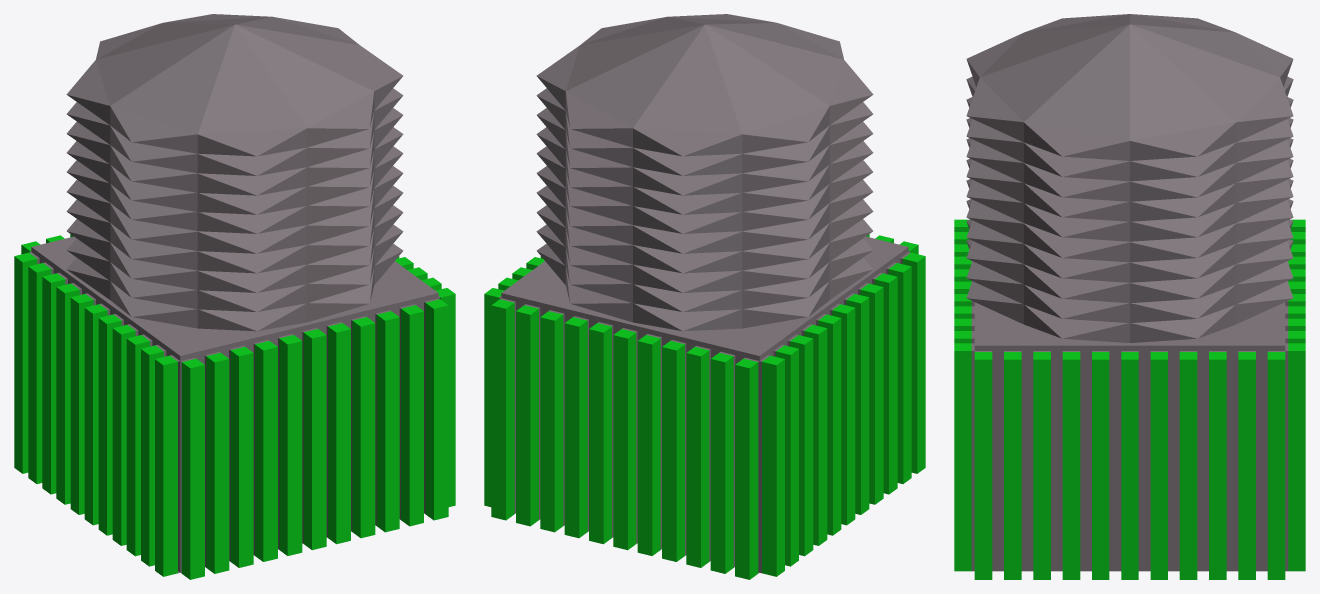
3 views of the same model, side by side, from view 1: azimuth 30°, elevation 25°; view 2: azimuth 150°, elevation 25°; view 3: azimuth 270°, elevation 25° (orthographic). The views are drawn at different scales.
Parts seen in each view (by area): view 1: Cube_001, Cylinder, x, a_001; view 2: Cube_001, Cylinder, x, a_001; view 3: Cylinder, Cube_001, x, a_001.
Boxes of the visible parts, x1,y1,x2,y2 form: Cube_001: (14,234,455,579); Cylinder: (66,14,403,331); x: (31,236,438,572); a_001: (29,251,440,573); Cube_001: (484,234,925,579); Cylinder: (536,14,873,331); x: (501,236,908,360); a_001: (499,251,910,573); Cylinder: (966,14,1293,342); Cube_001: (954,219,1305,579); x: (974,302,1285,571); a_001: (971,261,1288,571).
Bounding box in the file's own units: 12 × 12 × 18.13.
